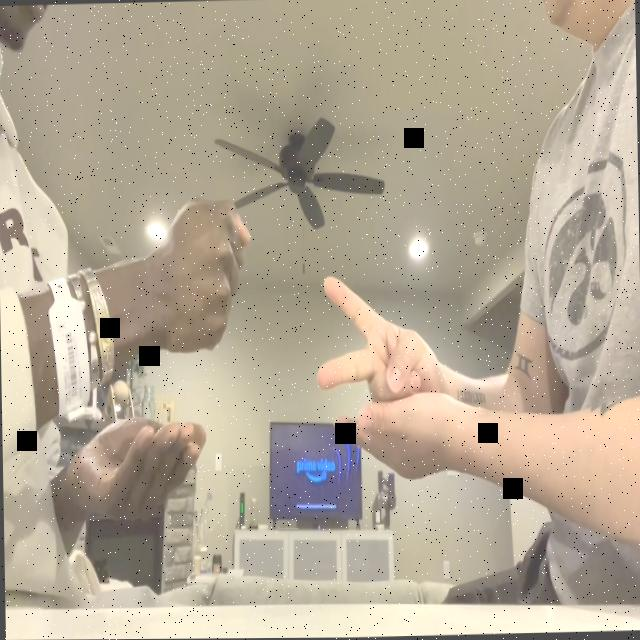Rock: (155, 196, 256, 358)
Scissors: (314, 272, 446, 406)
